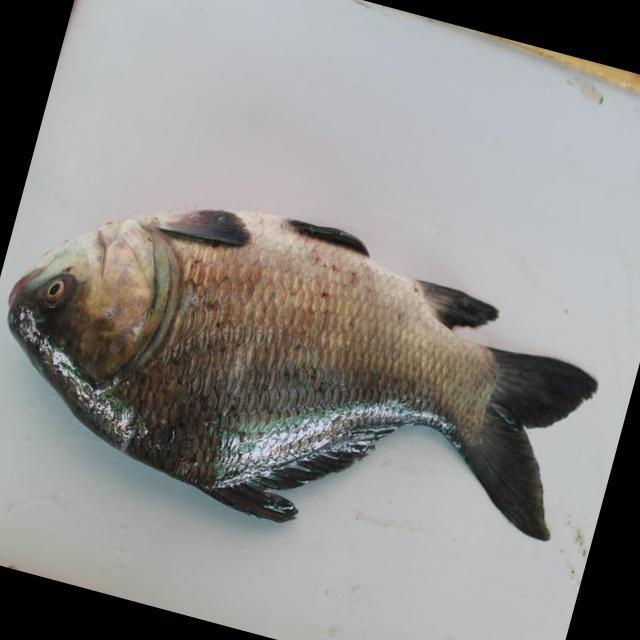Catla: (1, 204, 598, 550)
